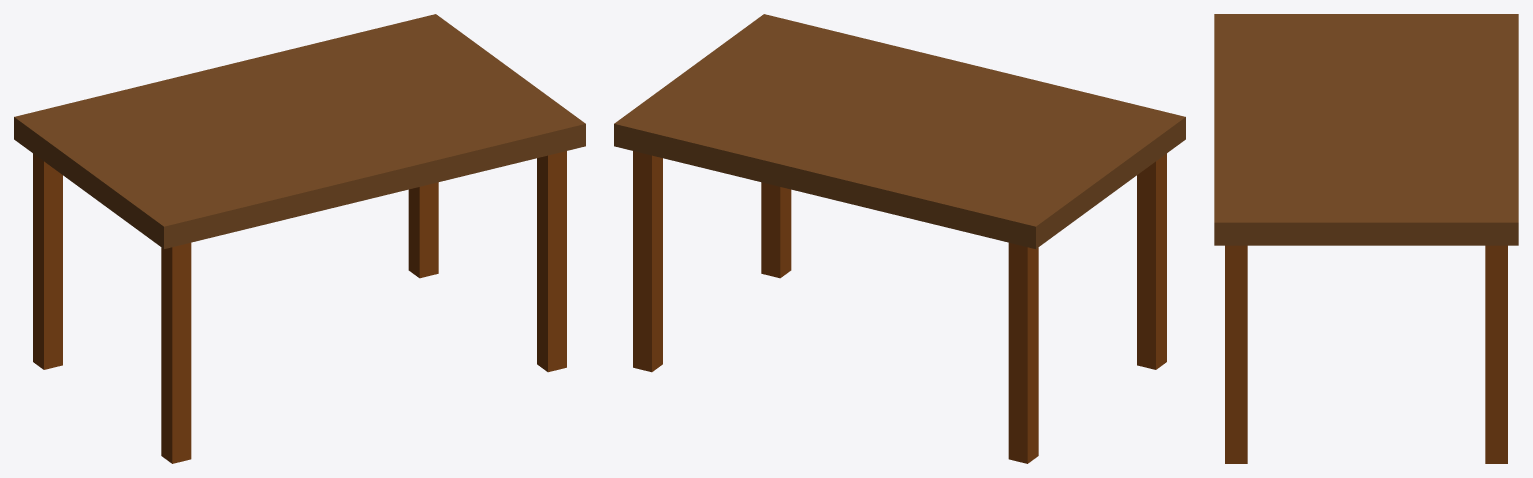
File: table.fbx
3 renders of one model, left to right at view 1: azimuth 30°, elevation 25°; view 2: azimuth 150°, elevation 25°; view 3: azimuth 270°, elevation 25°, orthographic.
Parts seen in each view (by area): view 1: Cube.001; view 2: Cube.001; view 3: Cube.001.
Boxes of the visible parts, x1=… form: Cube.001: x1=14, y1=14, x2=585, y2=463; Cube.001: x1=614, y1=14, x2=1185, y2=463; Cube.001: x1=1214, y1=14, x2=1518, y2=463.
Bounding box in the file's own units: 2589 × 1434 × 1595.
